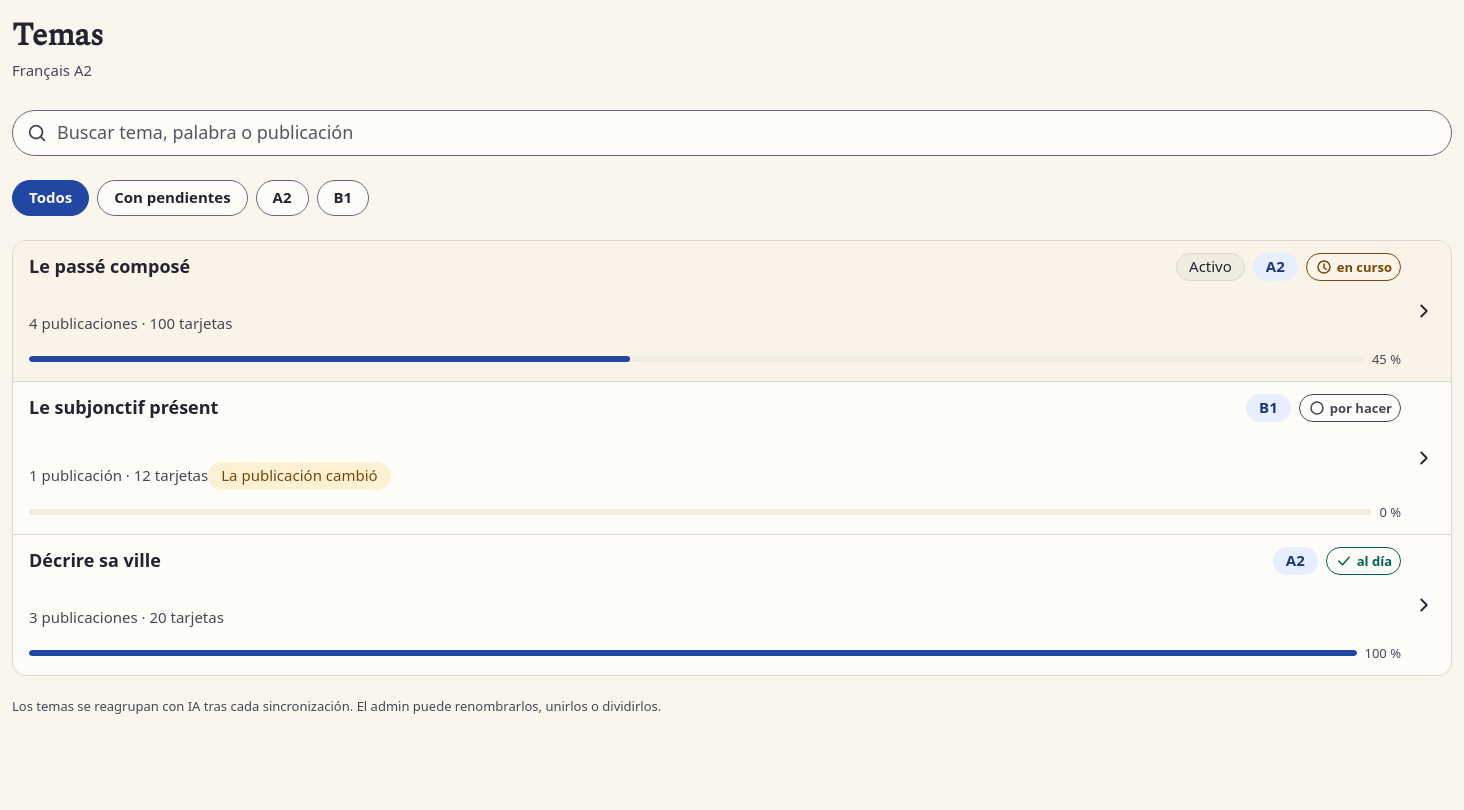
Test: el filtro Todos está pulsado, la fila activa se marca y cada tema dice su dominio
Expected: the link "Le passé composé" shows "en curso", x1=13 y1=241 x2=1451 y2=381
Expected: the link "Le subjonctif présent" shows "por hacer", x1=13 y1=382 x2=1451 y2=534
Step 1. Click the button "B1" → (343, 198), box x1=316 y1=180 x2=369 y2=216
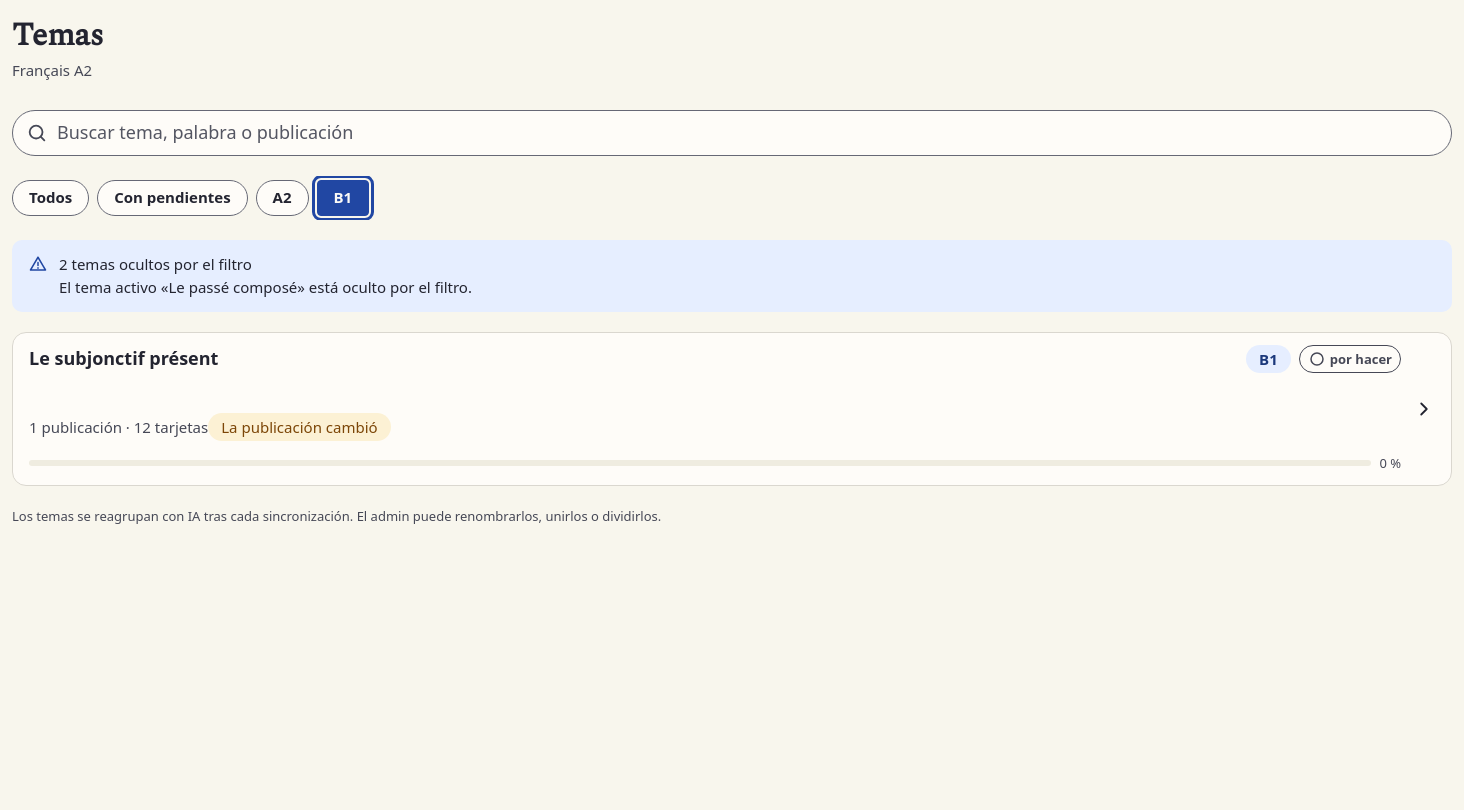
Now the button "Todos" is not pressed, box x1=12 y1=180 x2=89 y2=216
